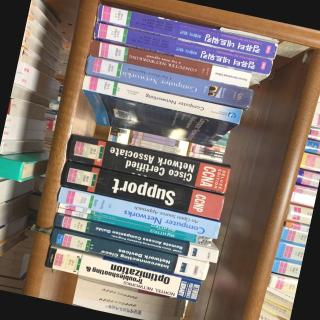book-spine: (63, 131, 230, 195), (58, 159, 225, 221), (95, 4, 278, 59), (92, 21, 273, 76), (83, 55, 253, 108), (44, 247, 201, 303), (47, 228, 209, 281), (56, 187, 220, 239), (52, 214, 219, 263), (89, 39, 251, 89), (81, 75, 242, 124), (56, 207, 211, 247), (58, 203, 211, 242)
